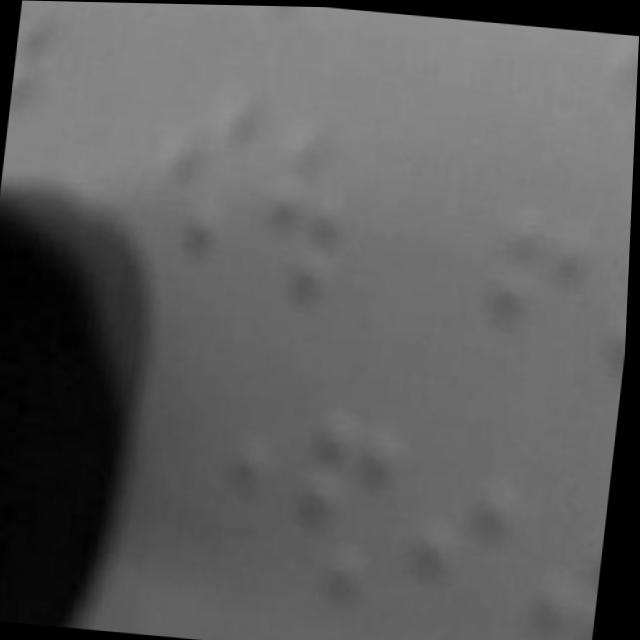braiile: (465, 191, 600, 419), (272, 395, 403, 627), (400, 450, 529, 640), (241, 113, 364, 312), (574, 255, 631, 477)
